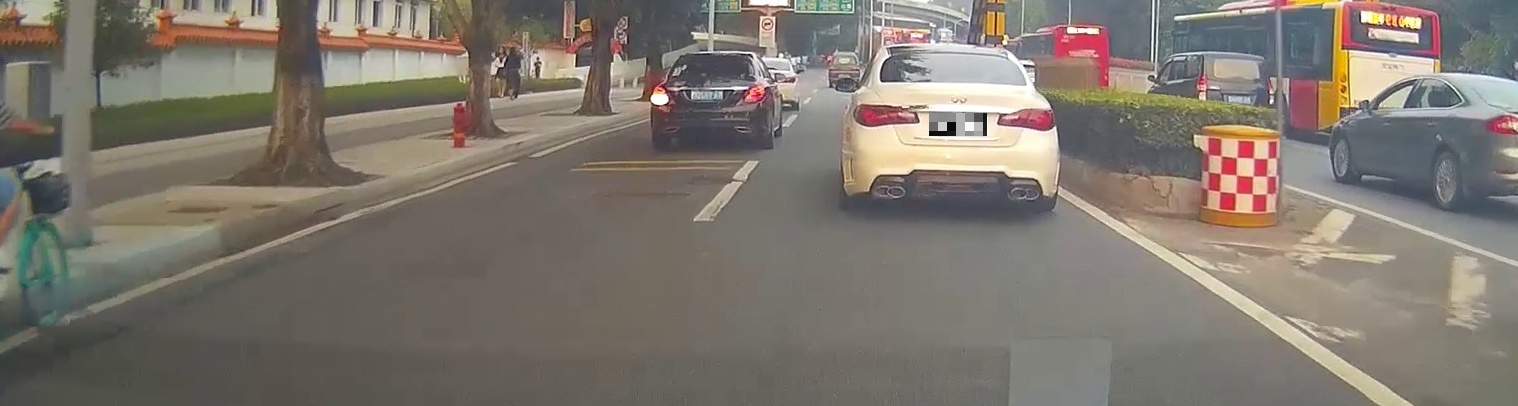L_light: (852, 104, 921, 128), (652, 87, 670, 106)
R_light: (997, 108, 1057, 131), (744, 84, 766, 103)
T_light: (939, 52, 968, 59), (711, 56, 725, 60)
day-left: (649, 50, 770, 147)
day-no: (839, 43, 1059, 211)
plate_1: (929, 113, 987, 136)
